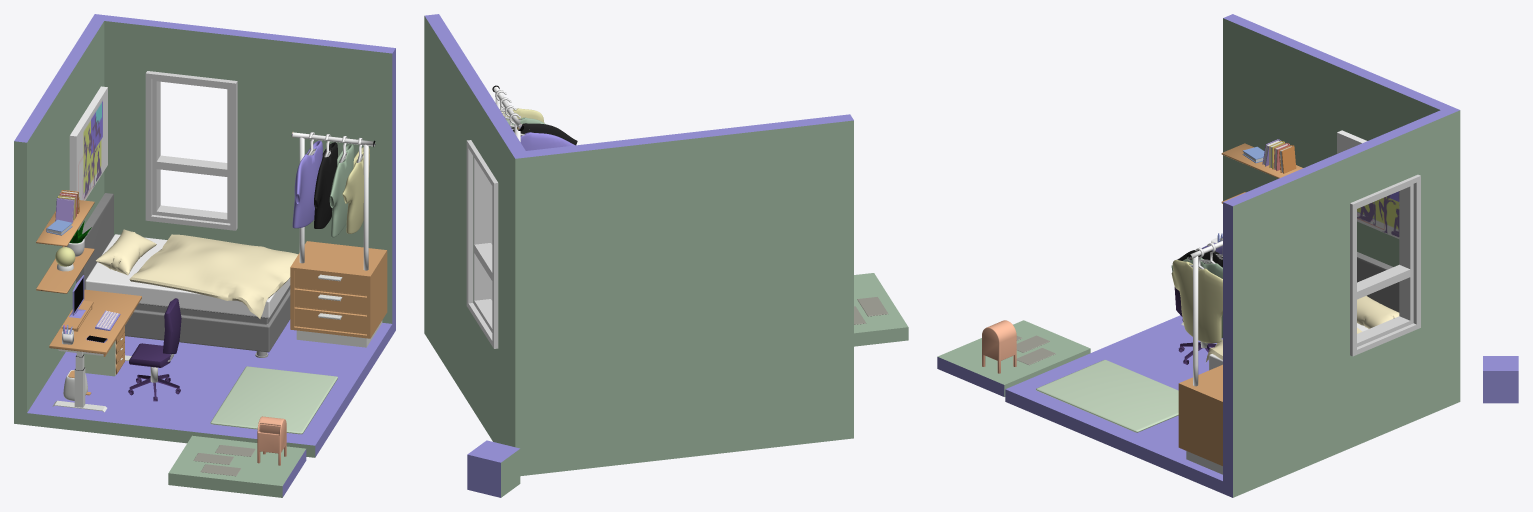
File: Final_Bedroom.glb
The picture shows the model from 3 angles, left to right: view 1: azimuth 30°, elevation 25°; view 2: azimuth 150°, elevation 25°; view 3: azimuth 270°, elevation 25°; orthographic projection. The views are drawn at different scales.
Parts seen in each view (by area): view 1: Body, Bed, Clothes, Floor Items, Mini Floor, Desks, Shelves, Painting, Chair, Mailbox, Table Stuff, Chair Leg (+1 smaller); view 2: Body, Cube, Mini Floor, Clothes; view 3: Body, Bed, Floor Items, Mini Floor, Clothes, Shelves, Painting, Cube, Mailbox.
Boxes of the visible parts, x1,y1,x2,y2 form: Body: (14,14,395,457); Bed: (76,193,387,357); Clothes: (291,131,375,270); Floor Items: (63,326,337,434); Mini Floor: (168,435,306,497); Desks: (49,289,141,412); Shelves: (36,190,94,293); Painting: (69,86,107,200); Chair: (129,298,181,367); Mailbox: (257,416,286,465); Table Stuff: (61,300,120,344); Chair Leg: (128,367,180,401); Body: (424,14,853,476); Cube: (467,440,520,497); Mini Floor: (854,273,908,346); Clothes: (492,85,577,150); Body: (1005,14,1460,497); Bed: (1178,252,1399,474); Floor Items: (1036,359,1178,432); Mini Floor: (937,320,1090,396); Clothes: (1171,238,1222,386); Shelves: (1221,139,1303,203); Painting: (1337,130,1399,238); Cube: (1483,356,1518,403); Mailbox: (982,320,1016,373).
Size of the model in its own units: 37.62 by 26.6 by 48.05.
Materials: 38 (2 with a texture image).
